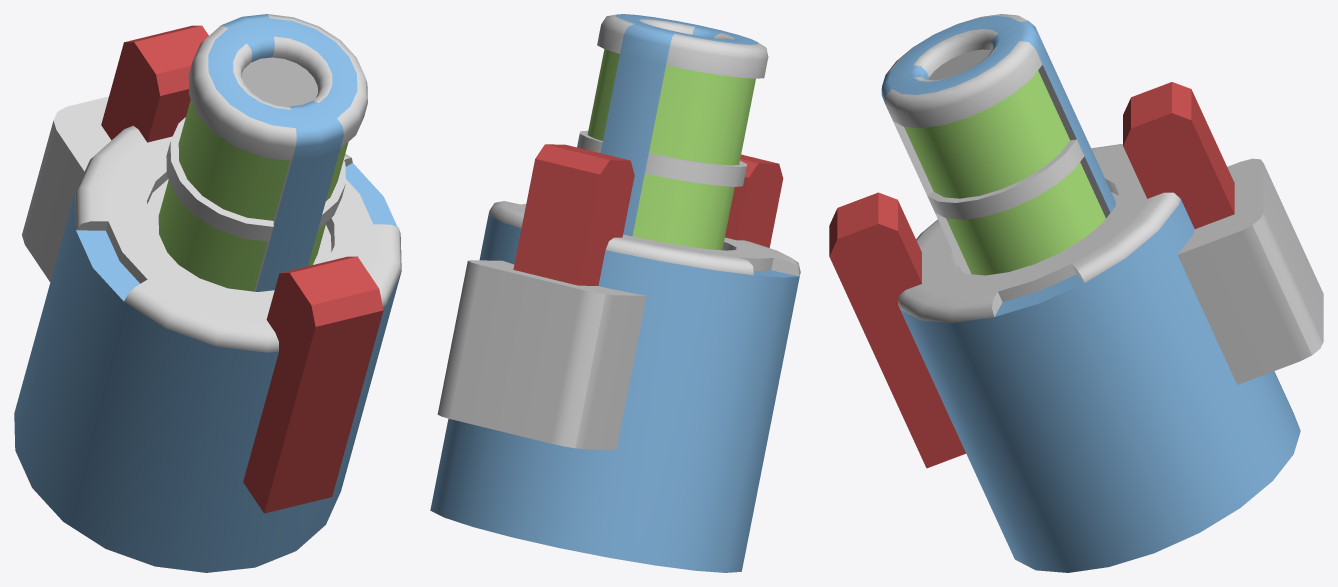
The model's file is PowerNode.fbx.
3 views of the same model, side by side, from view 1: azimuth 30°, elevation 25°; view 2: azimuth 150°, elevation 25°; view 3: azimuth 270°, elevation 25° (orthographic). The views are drawn at different scales.
Parts seen in each view (by area): view 1: PowerNode, PowerCore; view 2: PowerNode, PowerCore; view 3: PowerNode, PowerCore.
Boxes of the visible parts, left/top/right/bottom form: PowerNode: left=14, top=25, right=401, bottom=572; PowerCore: left=158, top=14, right=367, bottom=291; PowerNode: left=430, top=144, right=800, bottom=572; PowerCore: left=577, top=14, right=768, bottom=250; PowerNode: left=829, top=82, right=1323, bottom=572; PowerCore: left=881, top=14, right=1115, bottom=275.
Size of the model in its own units: 204 by 362 by 317.
